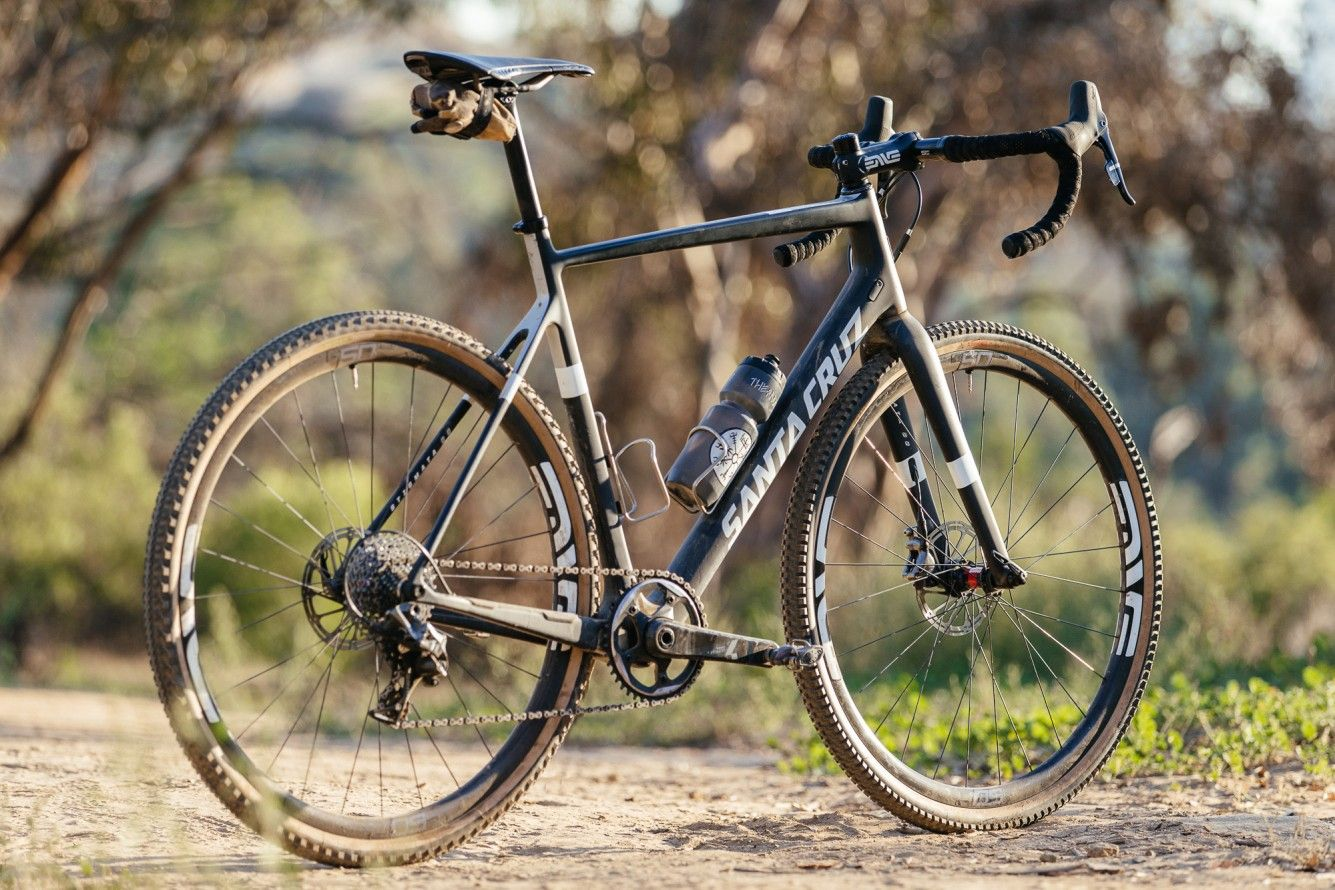bicycle: (137, 49, 1166, 873)
